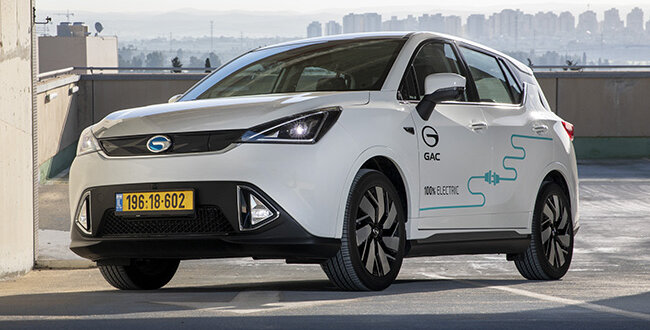licence: (115, 188, 195, 215)
